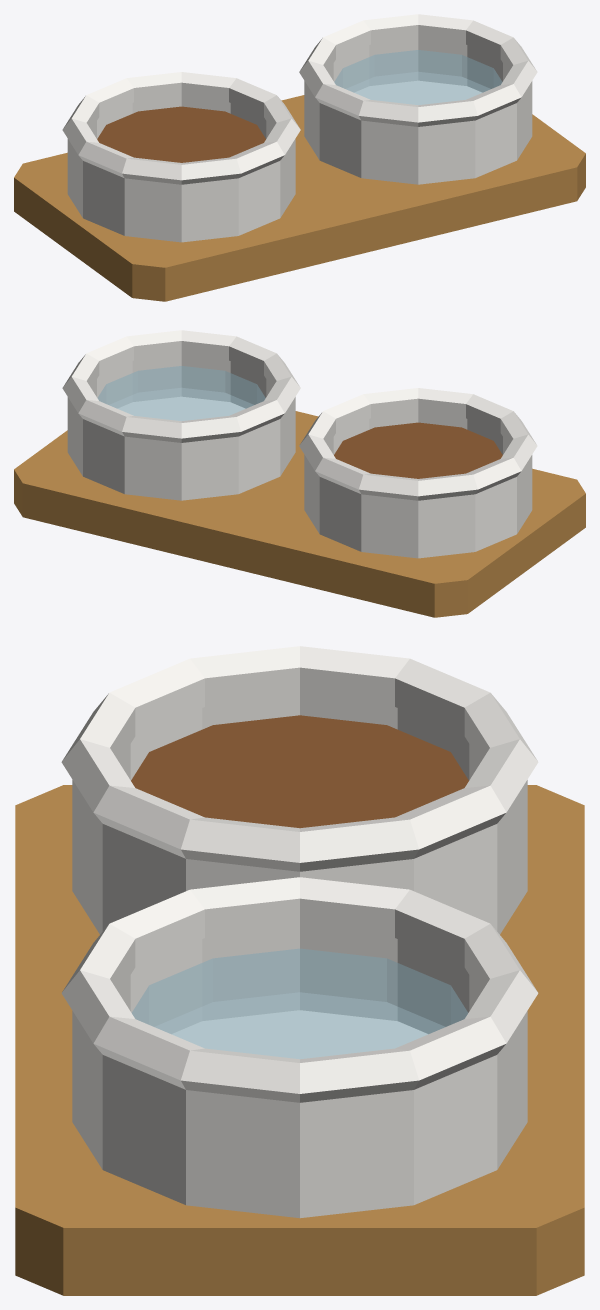
File: SM_LPI_Util_PetBowl_01.fbx
3 views of the same model, one above another, from view 1: azimuth 30°, elevation 25°; view 2: azimuth 150°, elevation 25°; view 3: azimuth 270°, elevation 25° (orthographic). The views are drawn at different scales.
Visible parts, largest first — view 1: SM_LPI_Util_PetBowl_01; view 2: SM_LPI_Util_PetBowl_01; view 3: SM_LPI_Util_PetBowl_01.
Part boxes in pixels (x1,y1,x2,y2): SM_LPI_Util_PetBowl_01: [14, 14, 585, 301]; SM_LPI_Util_PetBowl_01: [14, 330, 585, 617]; SM_LPI_Util_PetBowl_01: [15, 646, 584, 1295].
Size of the model in its own units: 0.391 by 0.0905 by 0.2125.
